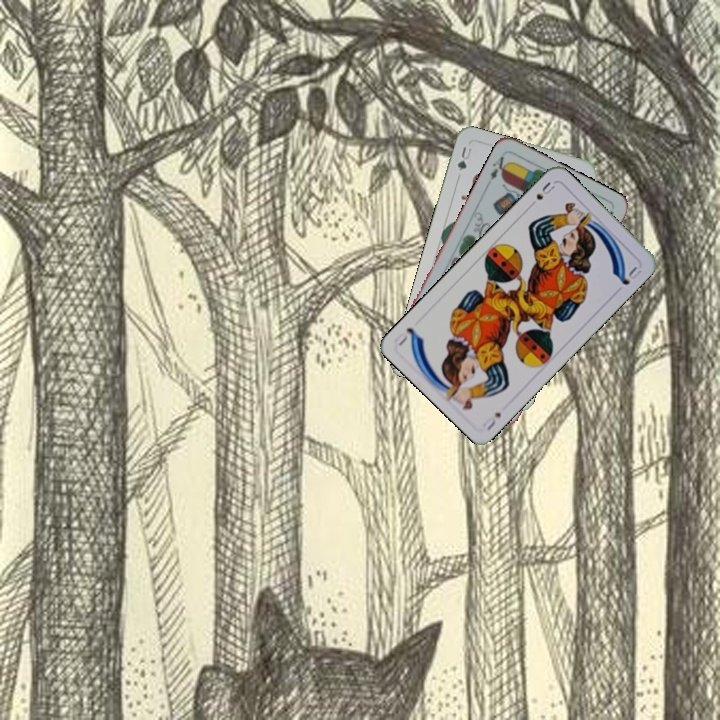EA: (486, 152, 511, 183)
GU: (453, 143, 474, 174)
SU: (525, 177, 558, 211), (479, 408, 504, 433)
